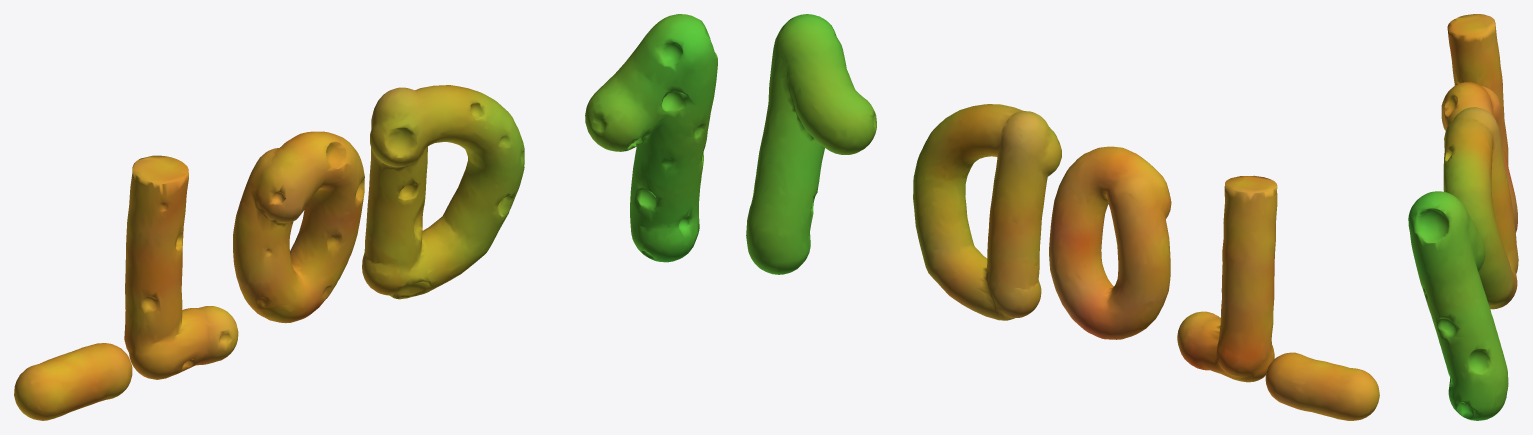
3 renders of one model, left to right at view 1: azimuth 30°, elevation 25°; view 2: azimuth 150°, elevation 25°; view 3: azimuth 270°, elevation 25°, orthographic. The views are drawn at different scales.
Visible parts, largest first — view 1: _LOD1; view 2: _LOD1; view 3: _LOD1.
Part boxes in pixels (x1=…): _LOD1: x1=14, y1=14, x2=717, y2=420; _LOD1: x1=746, y1=14, x2=1379, y2=420; _LOD1: x1=1408, y1=14, x2=1518, y2=420.
Bounding box in the file's own units: 4.9 × 0.8151 × 1.86.
